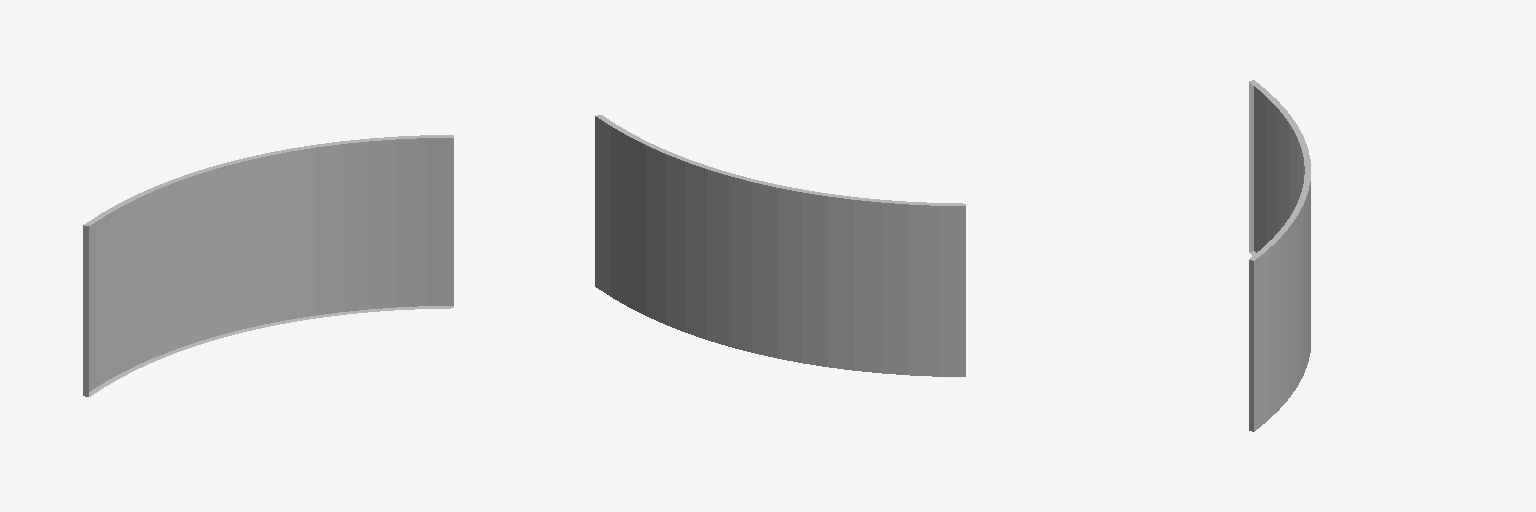
File: ScreenBack.obj
3 renders of one model, left to right at view 1: azimuth 30°, elevation 25°; view 2: azimuth 150°, elevation 25°; view 3: azimuth 270°, elevation 25°, orthographic.
Visible parts, largest first — view 1: ScreenBack; view 2: ScreenBack; view 3: ScreenBack.
Boxes of the visible parts, box(x1,y1,x2,y2) form: ScreenBack: box(83, 135, 453, 396); ScreenBack: box(595, 115, 965, 376); ScreenBack: box(1249, 80, 1310, 431).
Bounding box in the file's own units: 7.95 × 3.5 × 1.17.